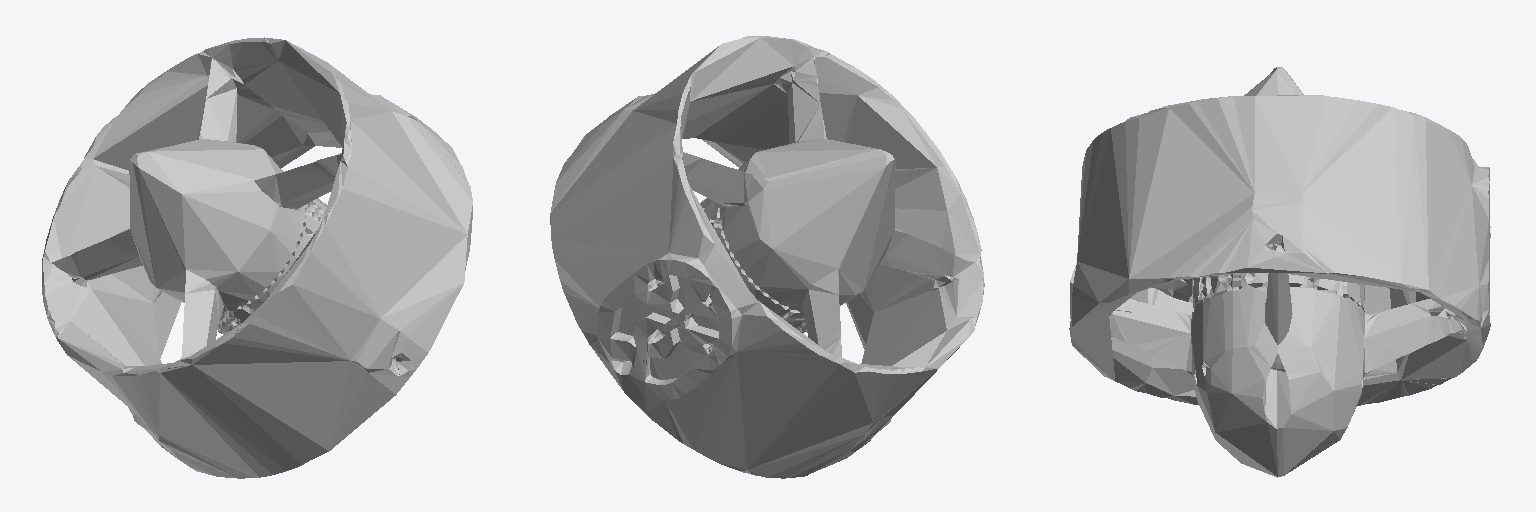
Rendered from rf-thruster_visual_rf-thruster.obj.
3 views of the same model, side by side, from view 1: azimuth 30°, elevation 25°; view 2: azimuth 150°, elevation 25°; view 3: azimuth 270°, elevation 25° (orthographic).
Parts seen in each view (by area): view 1: rf-thruster_visual_rf-thruster; view 2: rf-thruster_visual_rf-thruster; view 3: rf-thruster_visual_rf-thruster.
Boxes of the visible parts, x1=… form: rf-thruster_visual_rf-thruster: x1=42, y1=37, x2=472, y2=478; rf-thruster_visual_rf-thruster: x1=550, y1=36, x2=984, y2=478; rf-thruster_visual_rf-thruster: x1=1069, y1=67, x2=1490, y2=477.
Size of the model in its own units: 0.0964 by 0.0964 by 0.0977.